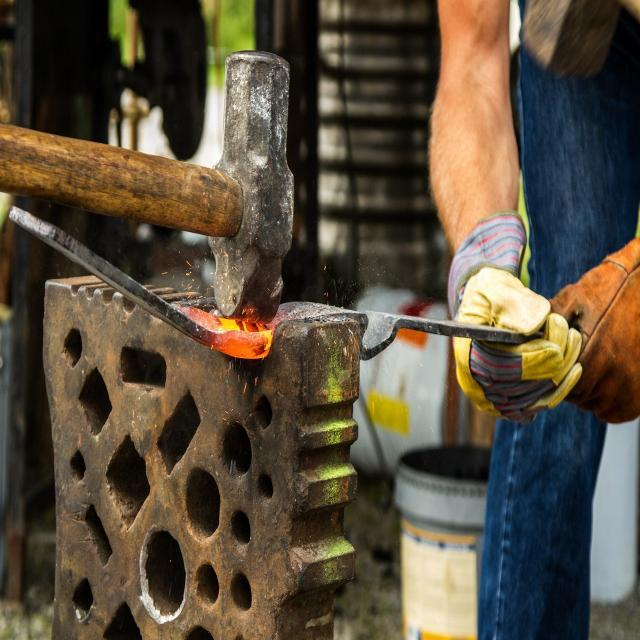hammer: (0, 48, 299, 324)
